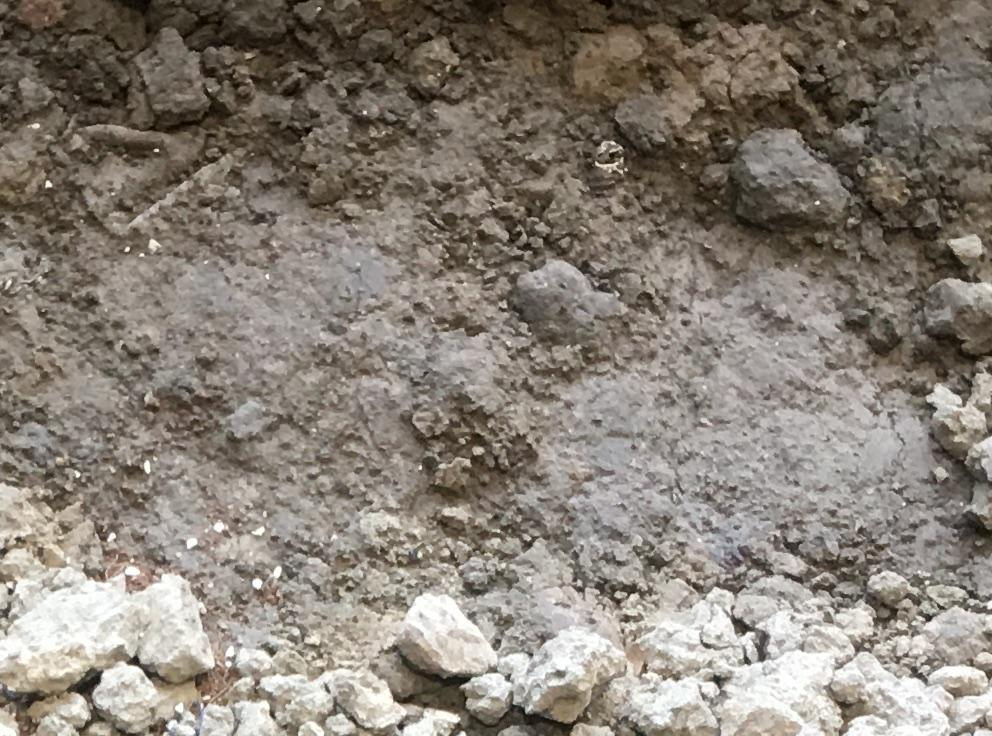block: (1, 586, 145, 698), (728, 132, 847, 230), (388, 592, 505, 683), (513, 623, 618, 723), (125, 574, 217, 684)
